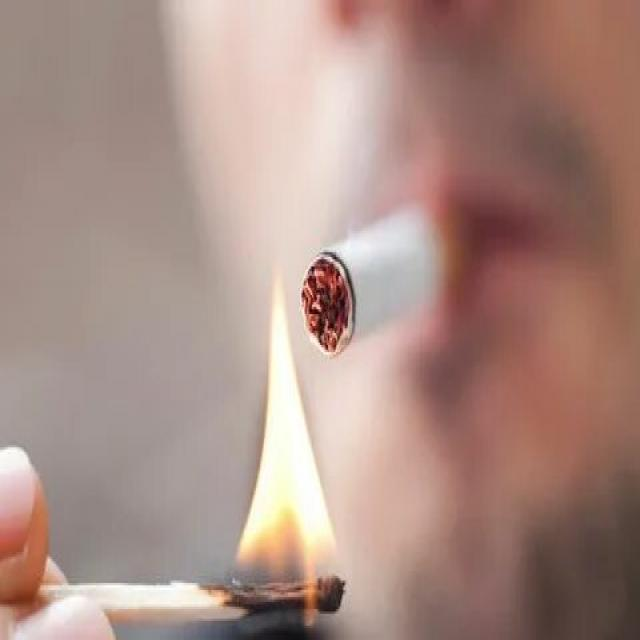smoke: (294, 183, 478, 369)
